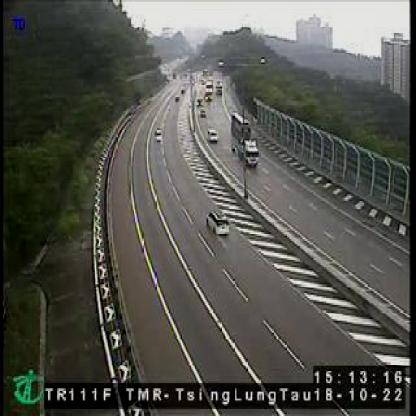Bus: (231, 111, 250, 141)
Car: (206, 209, 231, 238), (207, 129, 219, 143), (153, 128, 164, 143), (198, 108, 206, 118)
Truck: (230, 139, 260, 170)
